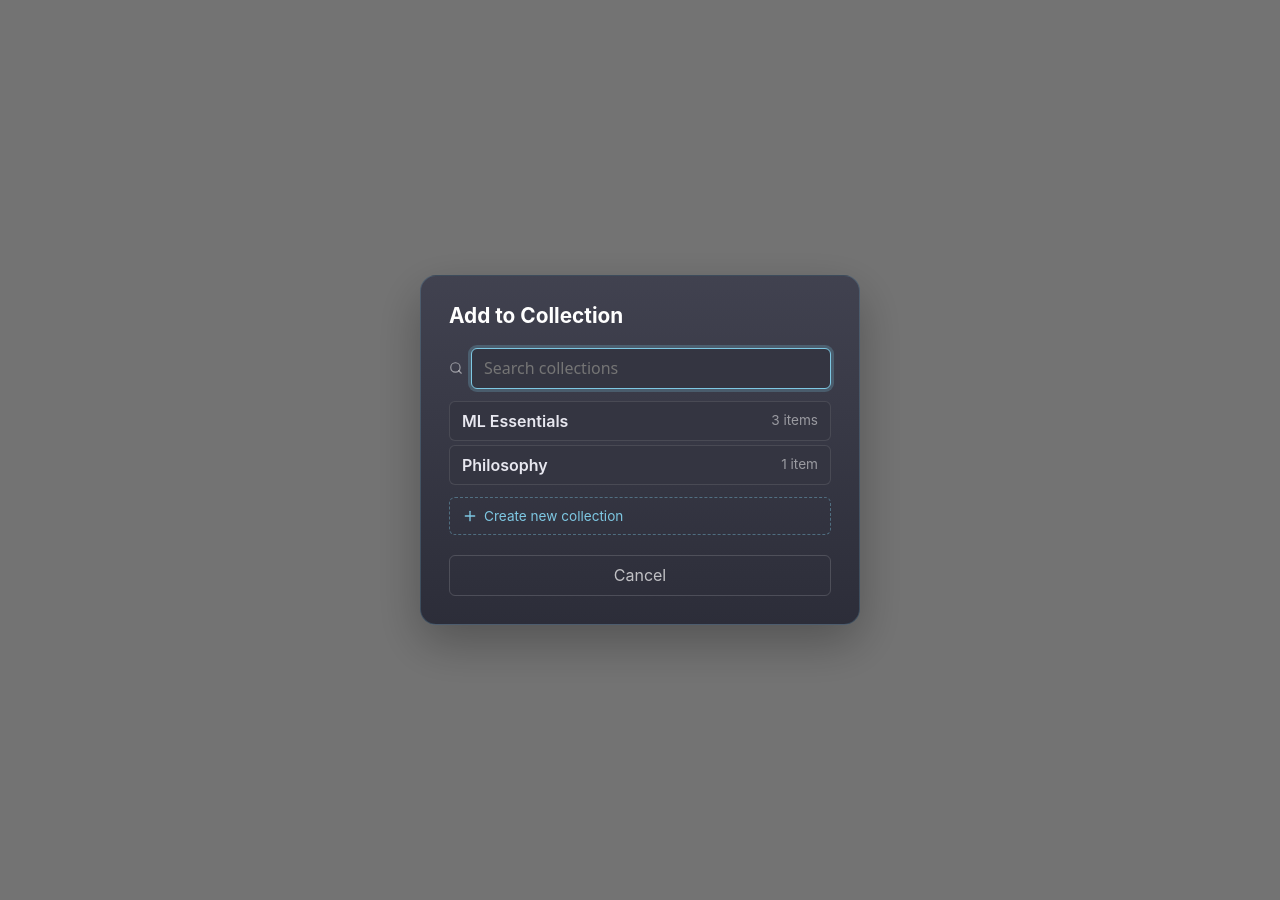
Test: AddToCollectionModal › shows create form when "Create new collection" is clicked
The width and height of the screenshot is (1280, 900).
Expected: the text "ML Essentials" is shown, [462, 412, 568, 430]
What coordinates should you click on to do the following:
click the button "Create new collection"
I would click on:
 (554, 516)
Its box is [449, 497, 831, 535].
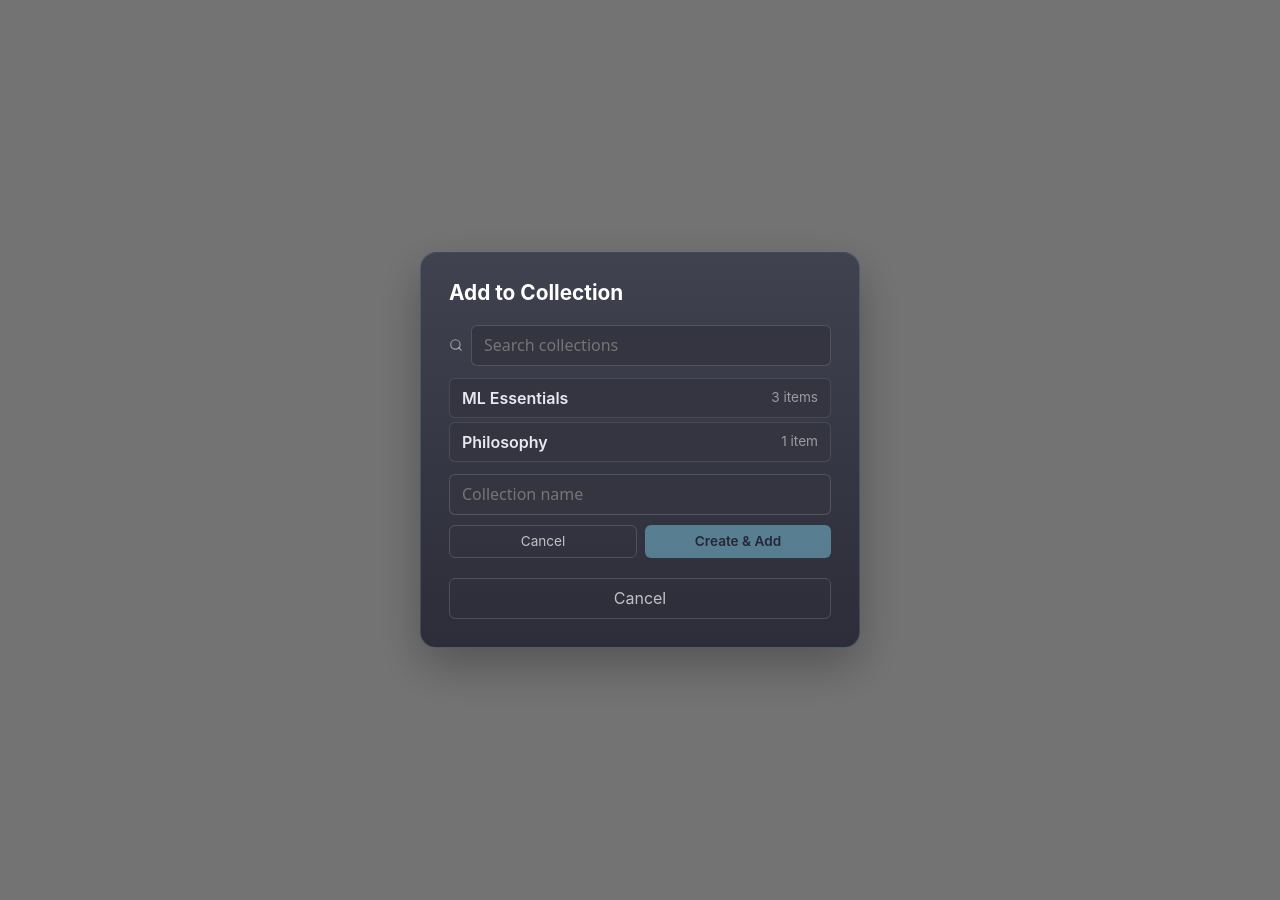
Expected: the field with placeholder "Collection name" is shown, [449, 474, 831, 515]
Expected: the button "Create & Add" is shown, [645, 525, 831, 558]
